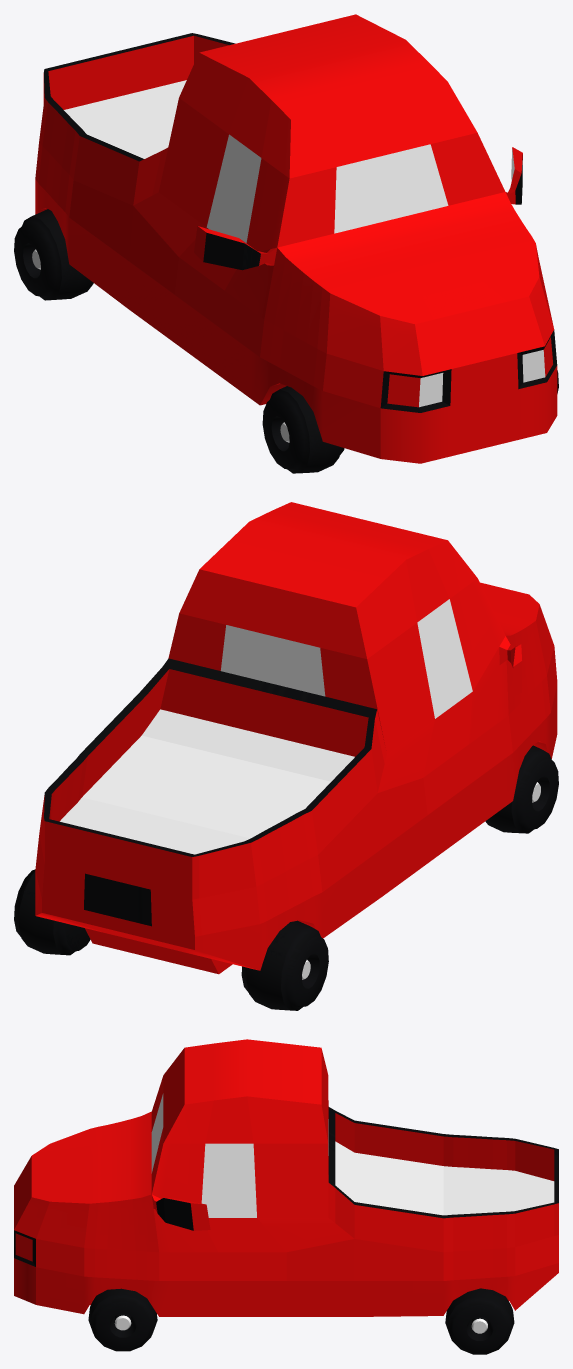
The model's file is TRUCK.obj.
The picture shows the model from 3 angles, top to bottom: view 1: azimuth 30°, elevation 25°; view 2: azimuth 150°, elevation 25°; view 3: azimuth 270°, elevation 25°; orthographic projection. The views are drawn at different scales.
Visible parts, largest first — view 1: pCube16, pasted__polySurface141 pasted__polySurface18 group3, polySurface141 polySurface18; view 2: pCube16, polySurface141 polySurface18, pasted__polySurface141 pasted__polySurface18 group3; view 3: pCube16, polySurface141 polySurface18, pasted__polySurface141 pasted__polySurface18 group3.
Boxes of the visible parts, x1,y1,x2,y2 form: pCube16: (35,14,557,463); pasted__polySurface141 pasted__polySurface18 group3: (262,370,558,473); polySurface141 polySurface18: (14,209,93,300); pCube16: (35,502,557,974); polySurface141 polySurface18: (14,869,328,1010); pasted__polySurface141 pasted__polySurface18 group3: (485,745,558,833); pCube16: (14,1039,558,1316); polySurface141 polySurface18: (445,1288,514,1354); pasted__polySurface141 pasted__polySurface18 group3: (88,1288,157,1351).
Bounding box in the file's own units: 1.52 × 1.47 × 3.02.
